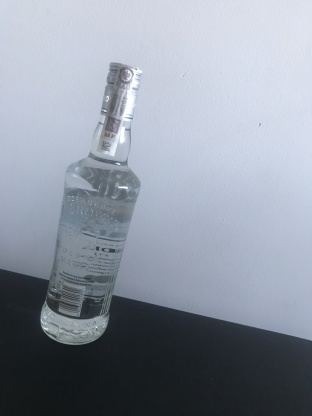nakretka: (98, 58, 144, 124)
